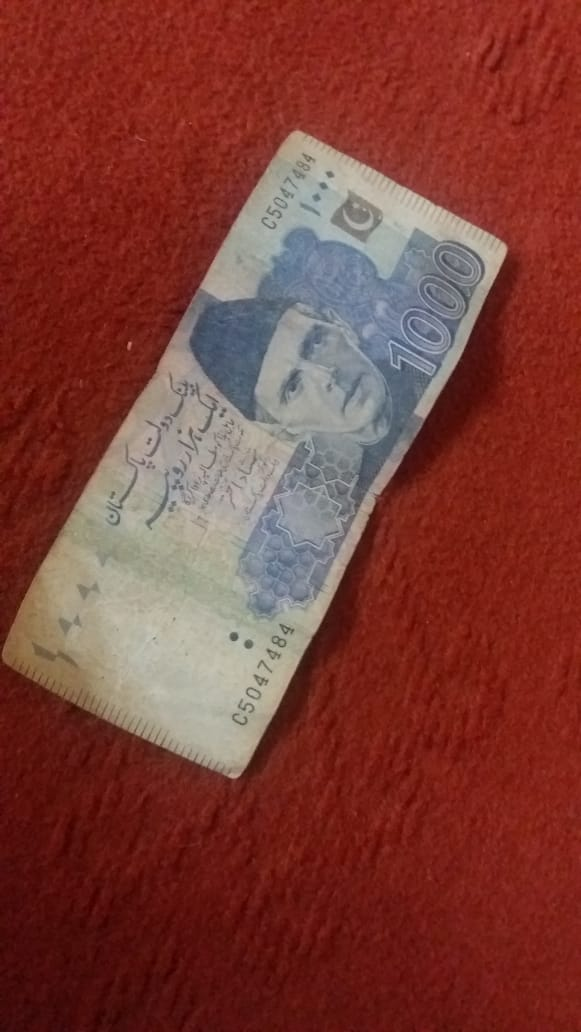1000 rupee: (12, 125, 534, 817)
